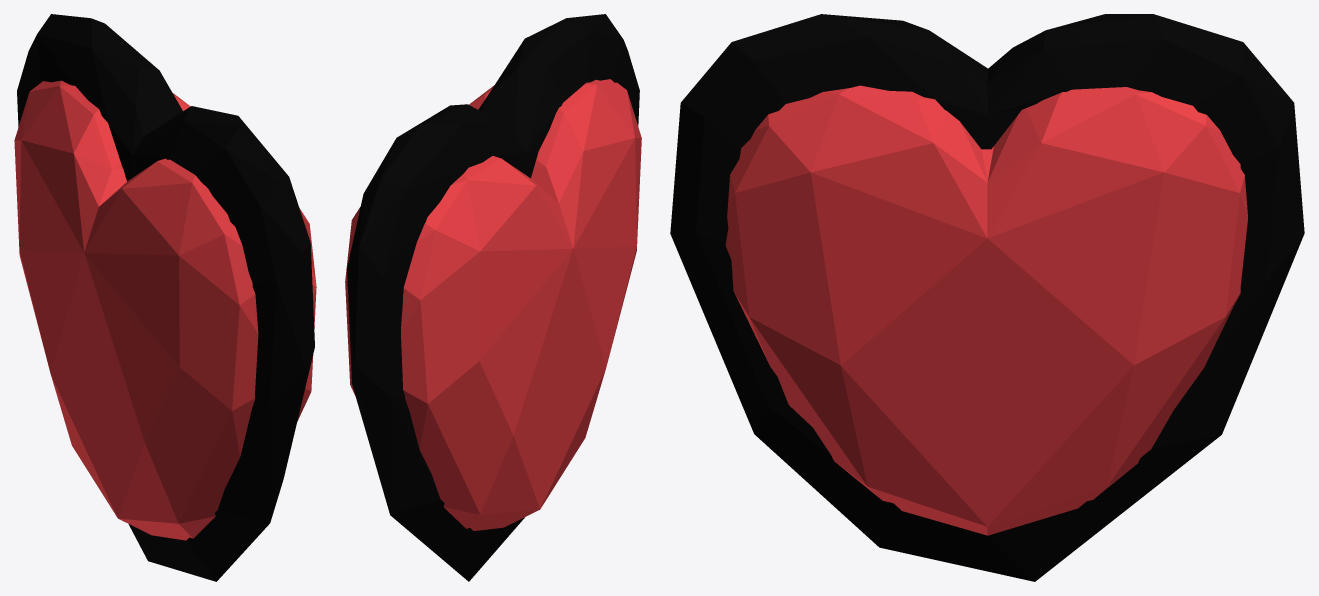
3 views of the same model, side by side, from view 1: azimuth 30°, elevation 25°; view 2: azimuth 150°, elevation 25°; view 3: azimuth 270°, elevation 25° (orthographic). The views are drawn at different scales.
Visible parts, largest first — view 1: Heart; view 2: Heart; view 3: Heart.
Boxes of the visible parts, bbox=[...] form: Heart: bbox=[14, 14, 316, 581]; Heart: bbox=[345, 14, 641, 581]; Heart: bbox=[670, 14, 1304, 581].
Bounding box in the file's own units: 0.9863 × 2.93 × 2.97.
